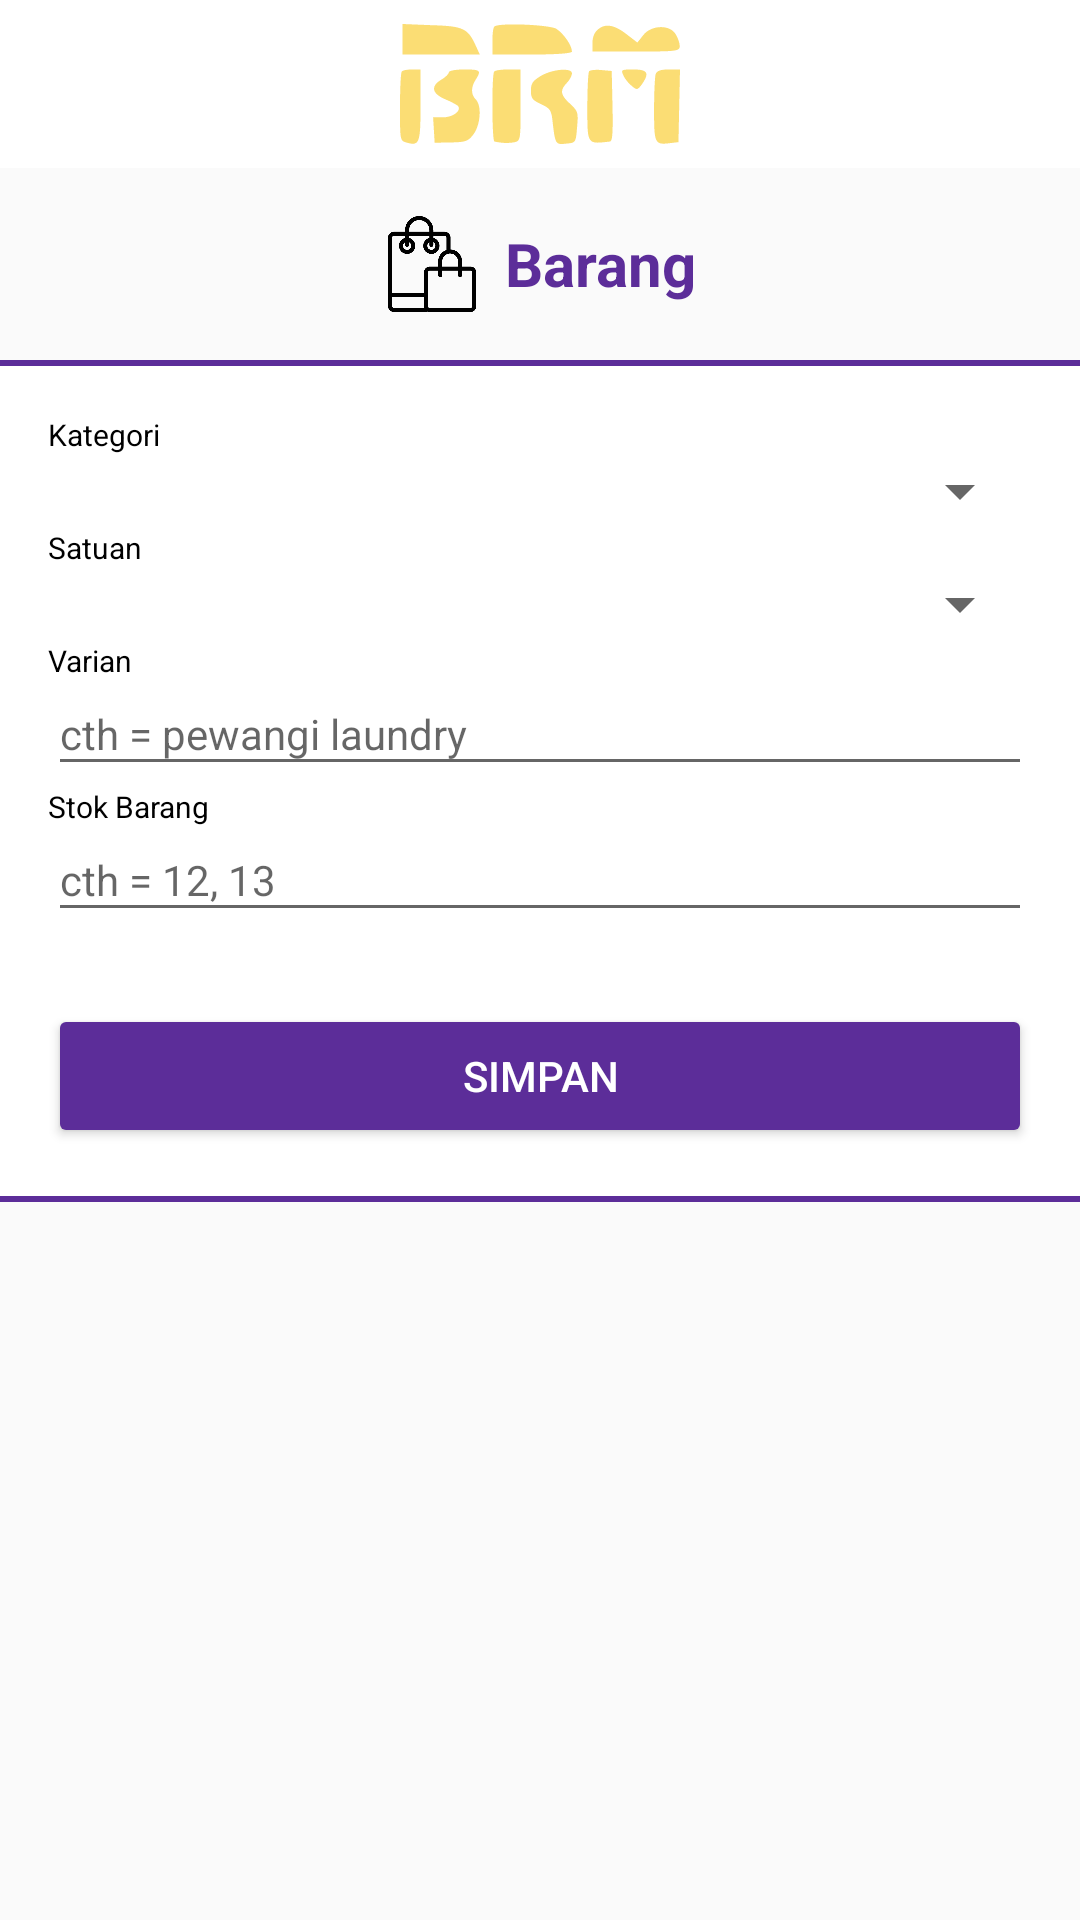

Icon click points for this 1080 x 1920 phone screenshot, format (x=x, y=y):
bags: (x=432, y=264)
